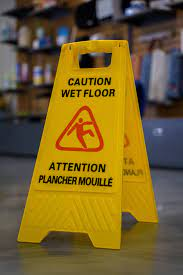wet caution sign: (32, 34, 160, 248)
